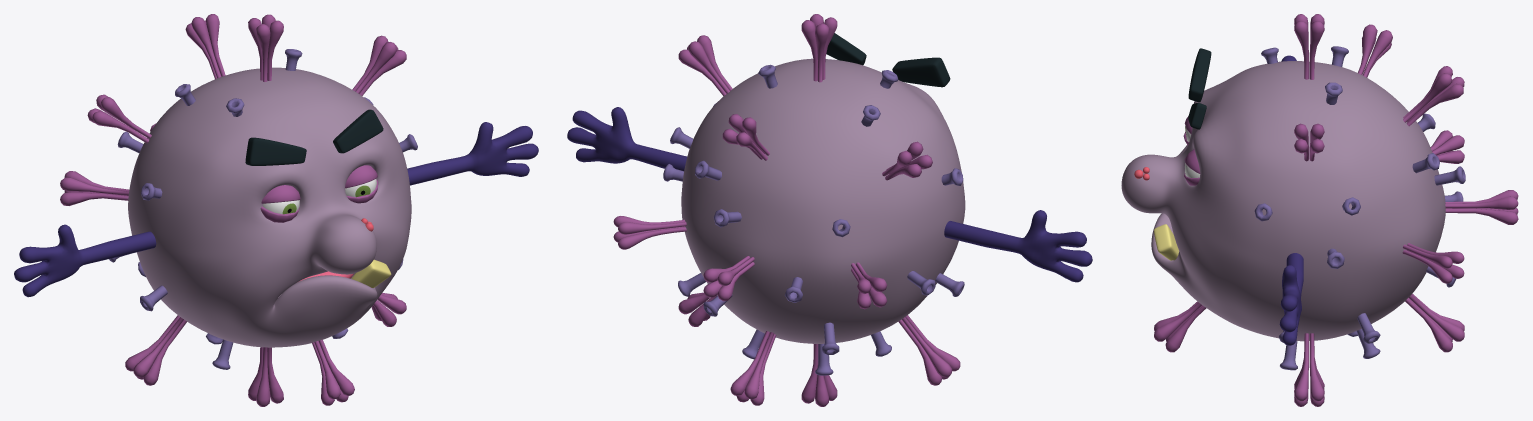
File: corona virus export sketchfab.fbx
3 views of the same model, side by side, from view 1: azimuth 30°, elevation 25°; view 2: azimuth 150°, elevation 25°; view 3: azimuth 270°, elevation 25° (orthographic).
Parts seen in each view (by area): view 1: Cube.001, Cylinder.001, Cube, Cylinder.018, Cube.002, Cube.005, Cube.003, Sphere.004, Sphere.003; view 2: Cube.001, Cylinder.001, Cube, Cylinder.018, Cube.002, Cube.005; view 3: Cube.001, Cylinder.001, Cylinder.018, Cube, Cube.002, Cube.003, Cube.005.
Part boxes in pixels (x1,y1,x2,y2): Cube.001: (128, 67, 411, 347); Cylinder.001: (60, 14, 406, 406); Cube: (14, 122, 538, 297); Cylinder.018: (109, 49, 417, 369); Cube.002: (245, 137, 306, 165); Cube.005: (333, 109, 383, 153); Cube.003: (351, 259, 391, 287); Sphere.004: (261, 185, 300, 203); Sphere.003: (345, 165, 377, 188); Cube.001: (681, 58, 965, 343); Cylinder.001: (613, 14, 960, 406); Cube: (567, 107, 1092, 282); Cylinder.018: (663, 64, 964, 375); Cube.002: (892, 57, 950, 87); Cube.005: (826, 33, 866, 65); Cube.001: (1121, 61, 1445, 341); Cylinder.001: (1154, 14, 1518, 406); Cylinder.018: (1254, 46, 1465, 370); Cube: (1279, 55, 1303, 345); Cube.002: (1188, 48, 1211, 102); Cube.003: (1154, 224, 1179, 260); Cube.005: (1188, 103, 1206, 129).
Size of the model in its own units: 376 by 263 by 250.
